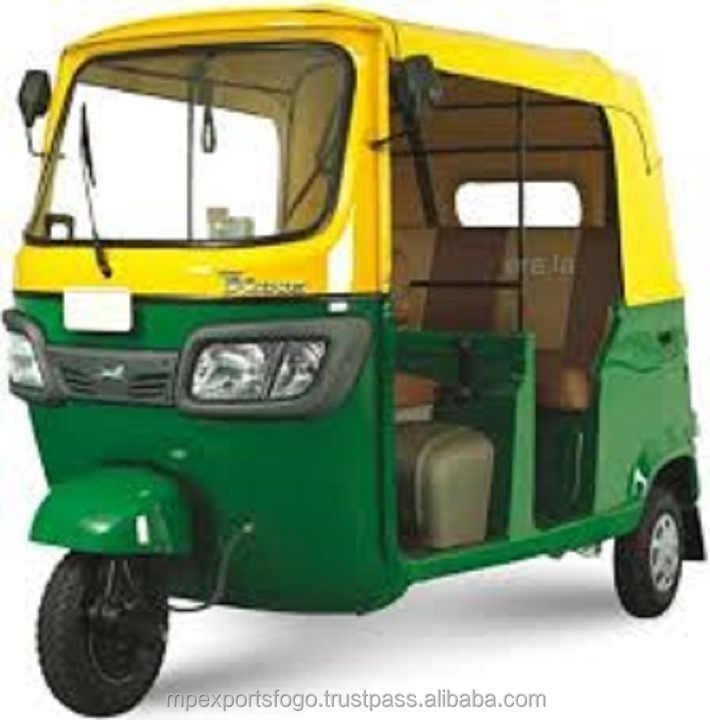keke: (6, 0, 709, 720)
